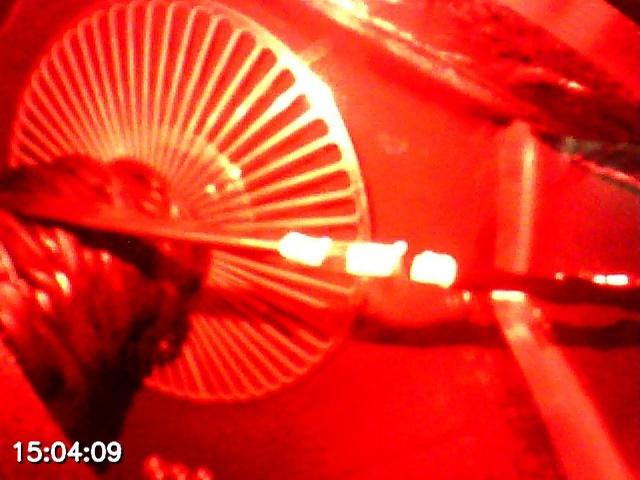white-dots: (278, 232, 458, 290)
